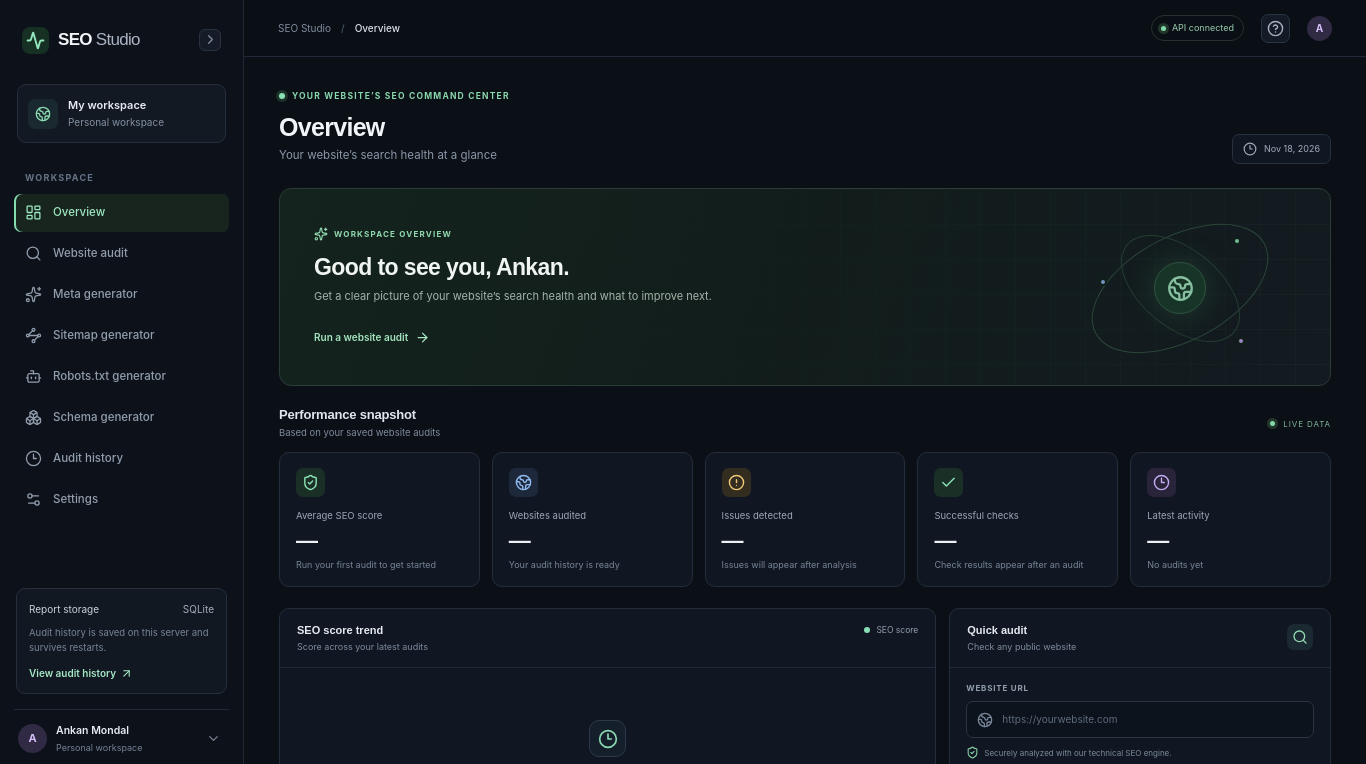
Scenario: SEO generator interactions › renders the workspace shell, checks API health, and navigates between sections
Expected: the text "API connected" is shown, [1151,15,1244,41]
Click the link "Meta generator" at (81, 294), box [25,286,138,303]
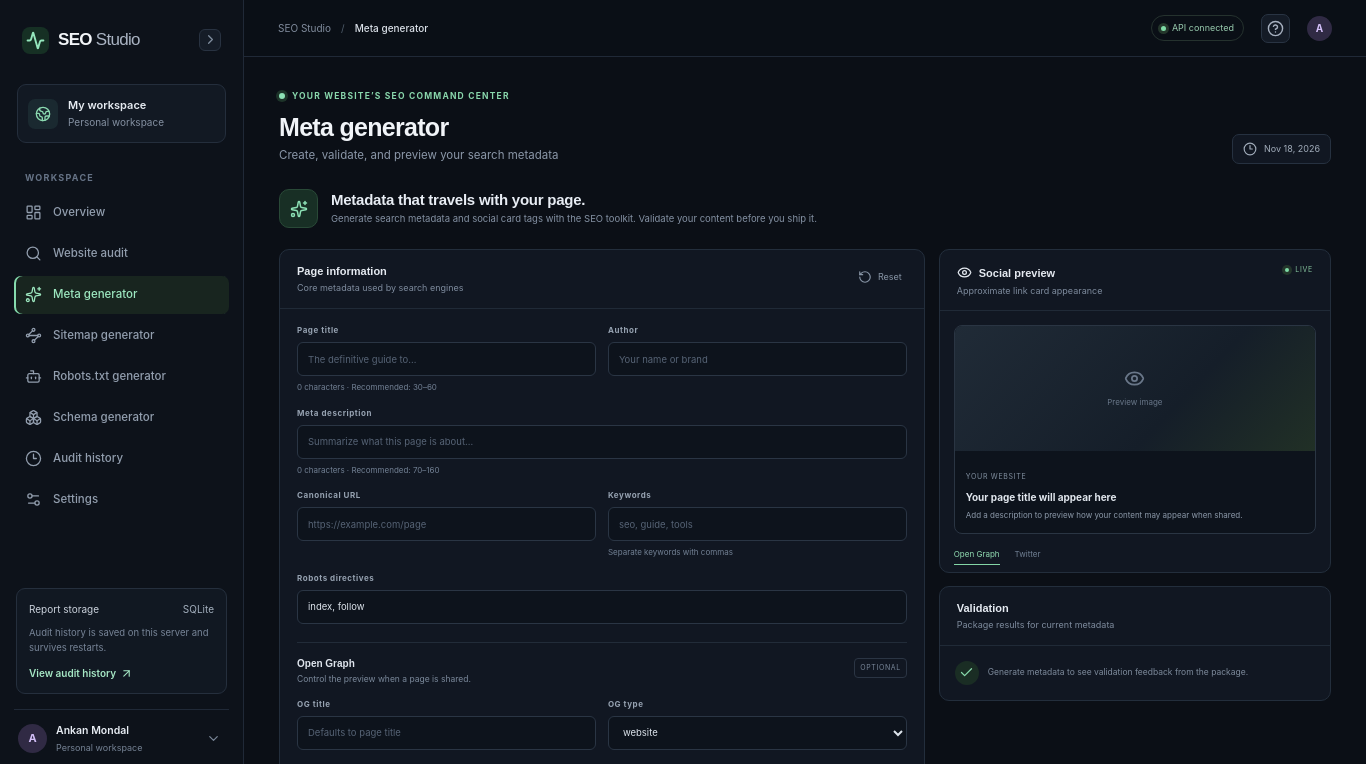
Now the heading "Metadata that travels with your page." is shown, box [331,191,585,208]
